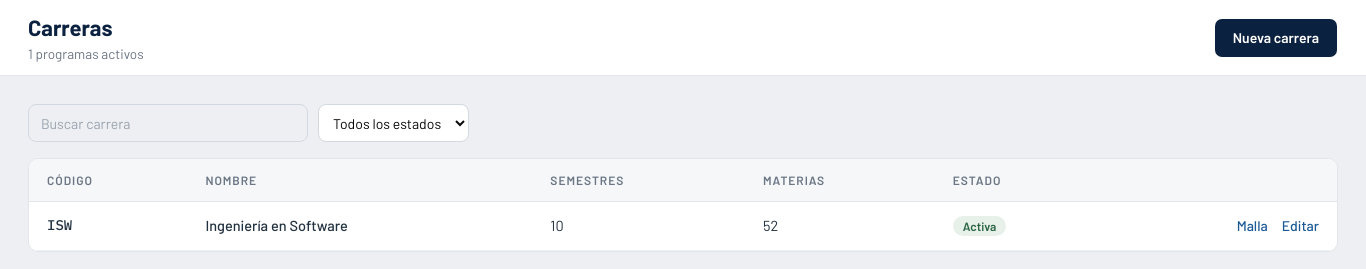
Test: ProgramsTable › filters by search text client-side
Expected: the text "Ingeniería en Software" is shown, [187,202,532,250]
Type "Electrónica" into the field with placeholder "Buscar carrera" at {"x": 168, "y": 123}, box [28,104,308,142]
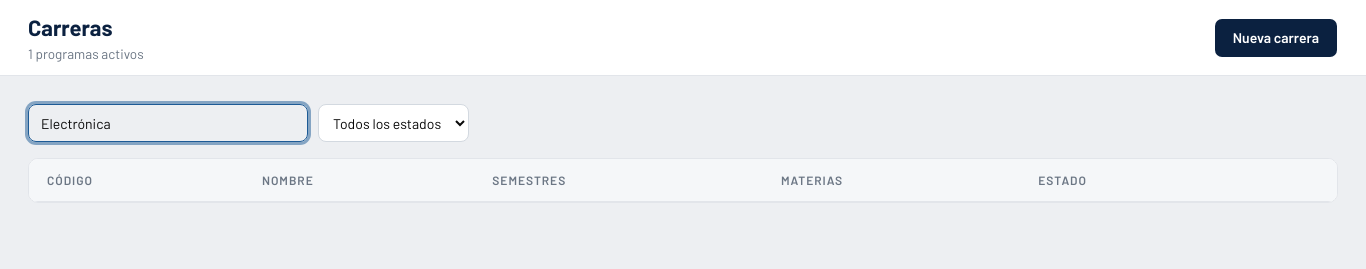
Now the text "Ingeniería en Software" is gone
